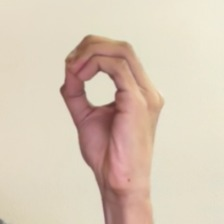O: (35, 20, 176, 201)
